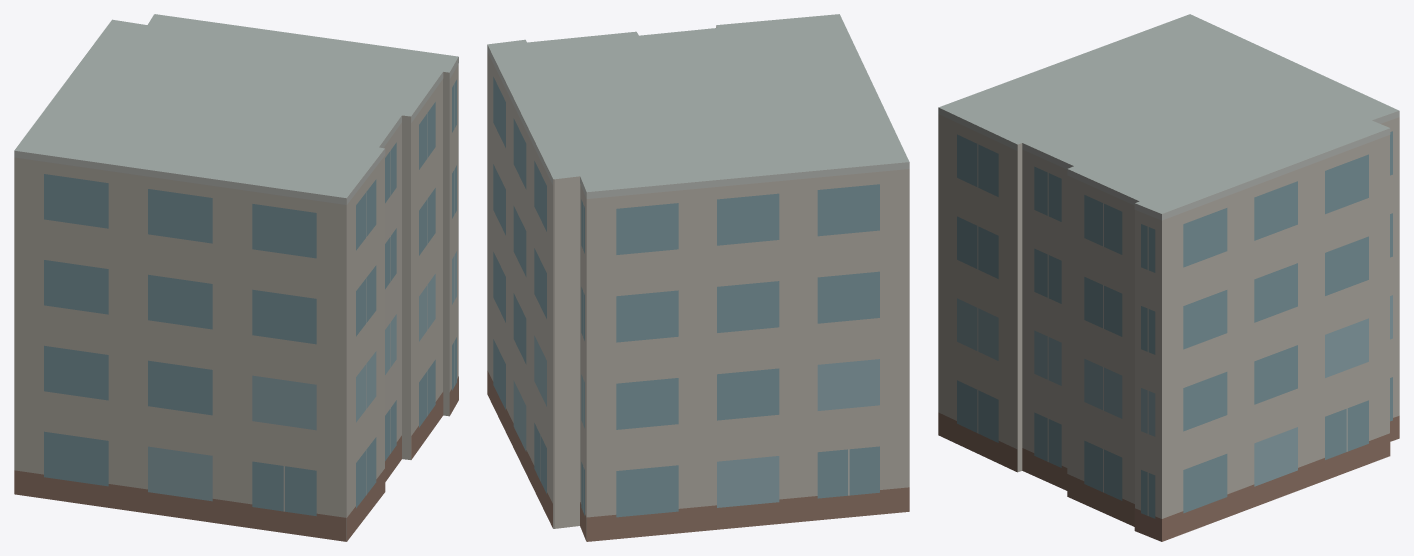
File: survey-upis-32819330.glb
The picture shows the model from 3 angles, left to right: view 1: azimuth 30°, elevation 25°; view 2: azimuth 150°, elevation 25°; view 3: azimuth 270°, elevation 25°; orthographic projection. The views are drawn at different scales.
Parts seen in each view (by area): view 1: survey-upis-32819330.tmp; view 2: survey-upis-32819330.tmp; view 3: survey-upis-32819330.tmp.
Part boxes in pixels (x1=…): survey-upis-32819330.tmp: x1=14, y1=14, x2=458, y2=541; survey-upis-32819330.tmp: x1=487, y1=14, x2=909, y2=541; survey-upis-32819330.tmp: x1=938, y1=14, x2=1399, y2=541.
Size of the model in its own units: 16.17 by 12.35 by 15.75.
